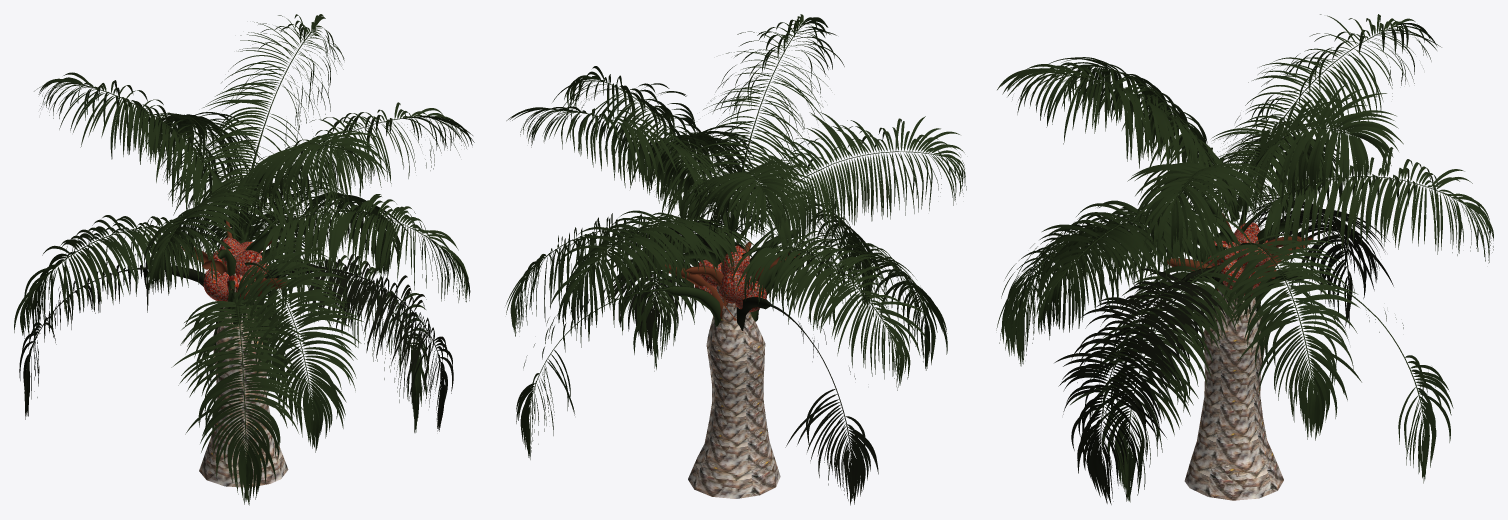
Rendered from Tropical_Oil_Palm_tree.obj.
The picture shows the model from 3 angles, left to right: view 1: azimuth 30°, elevation 25°; view 2: azimuth 150°, elevation 25°; view 3: azimuth 270°, elevation 25°; orthographic projection. The views are drawn at different scales.
Parts seen in each view (by area): view 1: palm_02_xx-001_0, Object05_xx-001_0, Object03_xx-001hlkh_0, Object01_sfhsy_0, Object02_xx-001hlkh_0, Object04_xx-001_0, GeoSphere05_xx-001nklb_0, GeoSphere03_xx-001nklb_0; view 2: palm_02_xx-001_0, Object01_sfhsy_0, Object05_xx-001_0, Object02_xx-001hlkh_0, Object04_xx-001_0, Object03_xx-001hlkh_0, GeoSphere02_xx-001nklb_0; view 3: palm_02_xx-001_0, Object03_xx-001hlkh_0, Object01_sfhsy_0, Object02_xx-001hlkh_0, Object04_xx-001_0, Object05_xx-001_0.
Part boxes in pixels (x1,y1,x2,y2): palm_02_xx-001_0: (14,14,474,452); Object05_xx-001_0: (171,292,311,505); Object03_xx-001hlkh_0: (265,254,453,431); Object01_sfhsy_0: (199,272,288,487); Object02_xx-001hlkh_0: (19,254,222,419); Object04_xx-001_0: (194,213,328,317); GeoSphere05_xx-001nklb_0: (203,268,228,301); GeoSphere03_xx-001nklb_0: (234,250,263,278); palm_02_xx-001_0: (505,14,966,390); Object01_sfhsy_0: (688,286,780,498); Object05_xx-001_0: (751,231,947,370); Object02_xx-001hlkh_0: (736,296,878,505); Object04_xx-001_0: (516,280,721,459); Object03_xx-001hlkh_0: (605,220,753,355); GeoSphere02_xx-001nklb_0: (719,271,749,303); palm_02_xx-001_0: (996,14,1493,502); Object03_xx-001hlkh_0: (1054,268,1228,504); Object01_sfhsy_0: (1184,290,1283,500); Object02_xx-001hlkh_0: (1229,195,1393,327); Object04_xx-001_0: (1258,269,1453,483); Object05_xx-001_0: (1005,214,1217,366).
Bounding box in the file's own units: 3.71 × 3.47 × 3.67.
5 materials, 2 textured.
